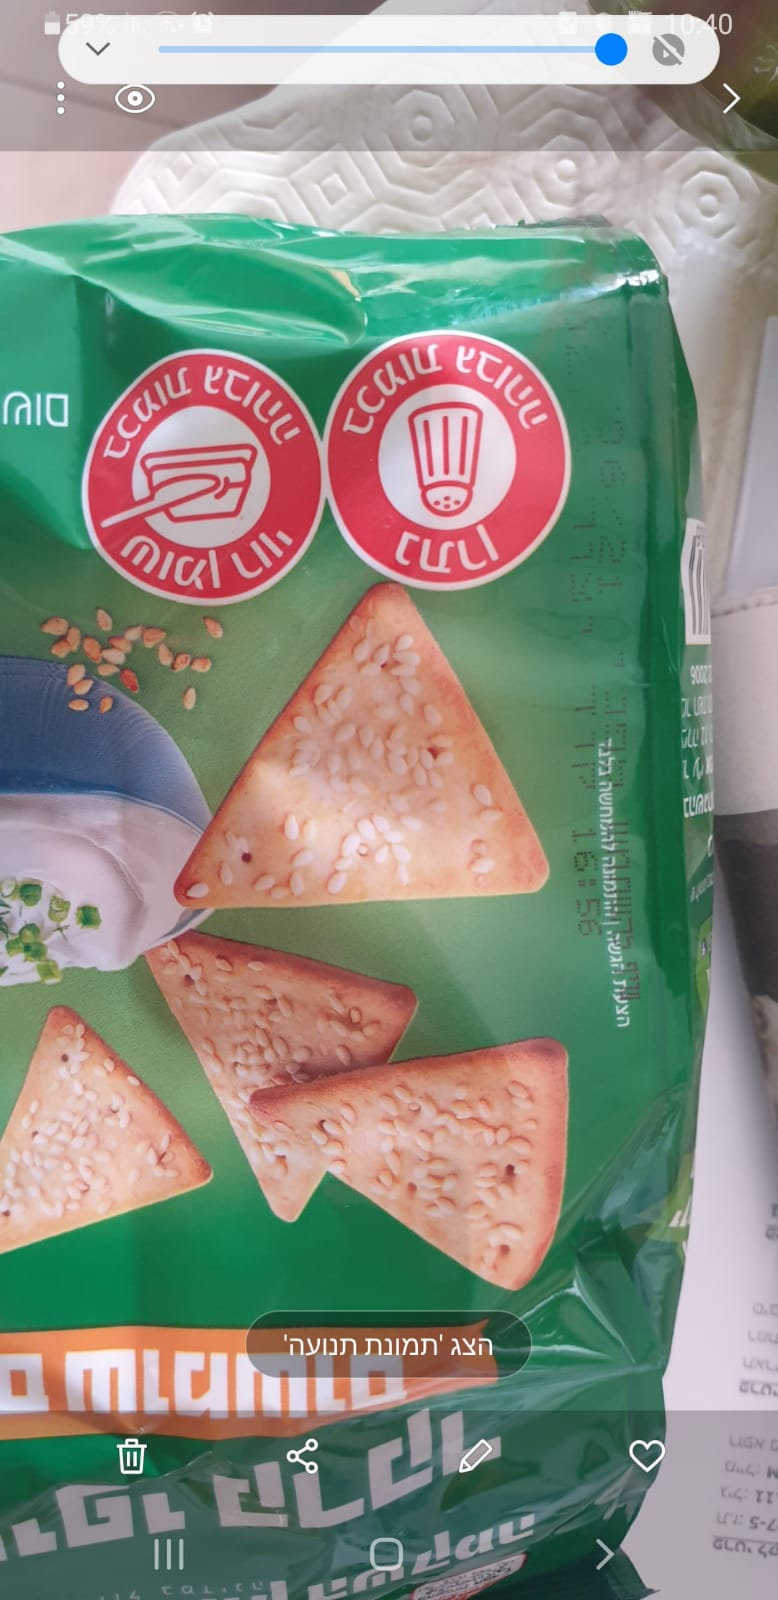fat: (76, 350, 326, 605)
salt: (321, 330, 570, 591)
